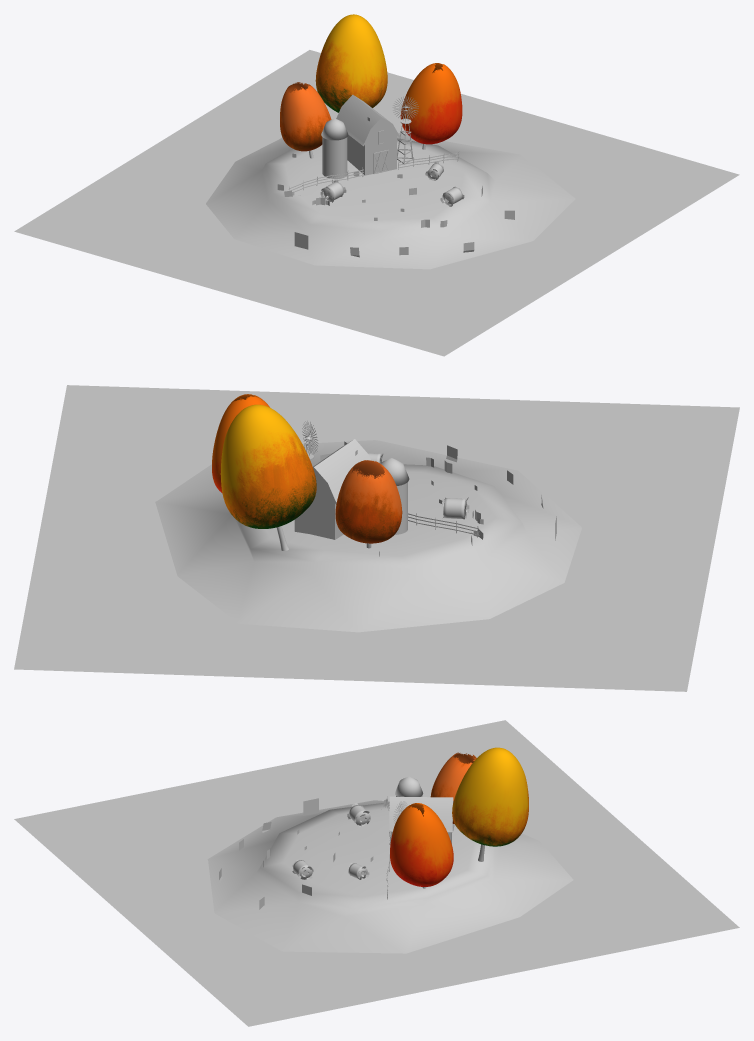
File: farm.fbx
The picture shows the model from 3 angles, top to bottom: view 1: azimuth 30°, elevation 25°; view 2: azimuth 150°, elevation 25°; view 3: azimuth 270°, elevation 25°; orthographic projection. The views are drawn at different scales.
Visible parts, largest first — view 1: Plane, Cylinder.008, Cylinder.011, Cube.004, Cube.005, Cylinder.021, Cylinder.001, Cylinder.004, Cube.037; view 2: Plane, Cylinder.008, Cube.005, Cube.004, Cylinder.011, Cylinder.021, Cylinder.001; view 3: Plane, Cylinder.008, Cylinder.011, Cube.004, Cube.005, Cylinder.001.
Part boxes in pixels (box(x1,y1,x2,y2)): Plane: box(14, 50, 739, 356); Cylinder.008: box(315, 14, 387, 112); Cylinder.011: box(400, 63, 462, 149); Cube.004: box(336, 94, 400, 175); Cube.005: box(280, 82, 331, 158); Cylinder.021: box(321, 118, 348, 179); Cylinder.001: box(320, 161, 464, 206); Cylinder.004: box(392, 96, 418, 164); Cube.037: box(289, 151, 459, 192); Plane: box(14, 385, 739, 691); Cylinder.008: box(220, 404, 316, 550); Cube.005: box(335, 460, 402, 548); Cube.004: box(294, 439, 371, 539); Cylinder.011: box(212, 394, 269, 492); Cylinder.021: box(380, 458, 409, 534); Cylinder.001: box(367, 453, 469, 519); Plane: box(14, 720, 739, 1026); Cylinder.008: box(452, 747, 528, 861); Cylinder.011: box(390, 803, 453, 888); Cube.004: box(389, 796, 453, 844); Cube.005: box(430, 752, 476, 830); Cylinder.001: box(292, 802, 370, 880).
Bounding box in the file's own units: 1317 × 285 × 1317.
